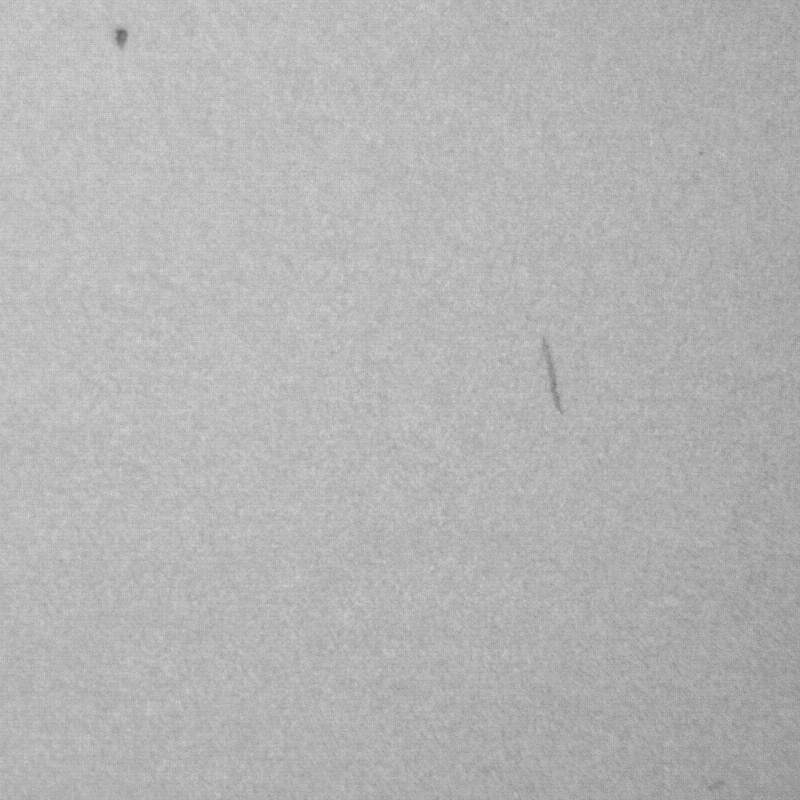defect: (535, 337, 568, 417), (107, 23, 130, 53)
